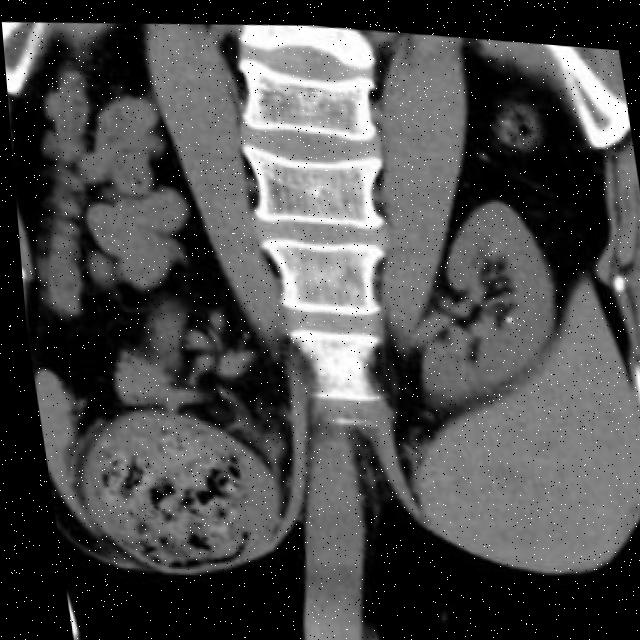Tas_Var: (501, 306, 510, 318)
